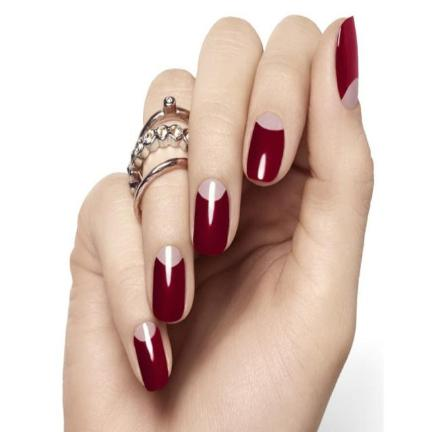Nail: (193, 178, 229, 257), (246, 112, 285, 183), (133, 321, 170, 392), (152, 245, 185, 322), (336, 15, 358, 108)
